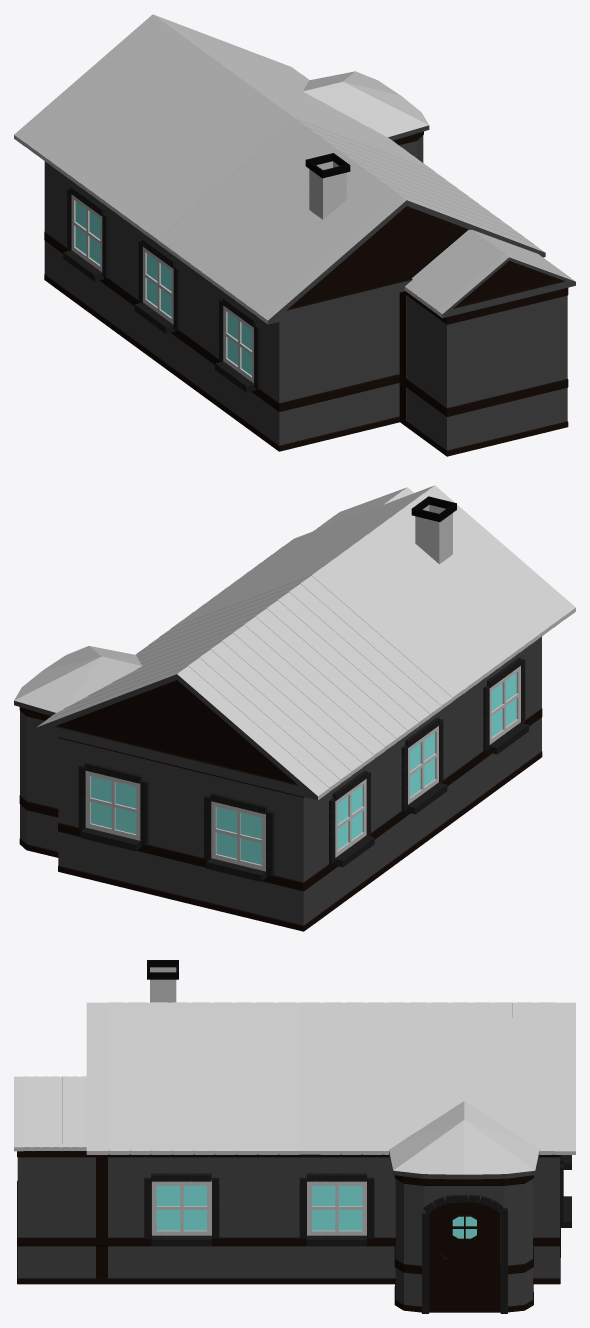
The model's file is farm.obj.
3 renders of one model, top to bottom at view 1: azimuth 30°, elevation 25°; view 2: azimuth 150°, elevation 25°; view 3: azimuth 270°, elevation 25°, orthographic. The views are drawn at different scales.
Parts seen in each view (by area): view 1: Farm; view 2: Farm; view 3: Farm.
Boxes of the visible parts, <box> form: Farm: <box>14,14,575,456</box>; Farm: <box>14,485,575,931</box>; Farm: <box>14,960,575,1313</box>.
Size of the model in its own units: 22.22 by 15.88 by 33.64.
